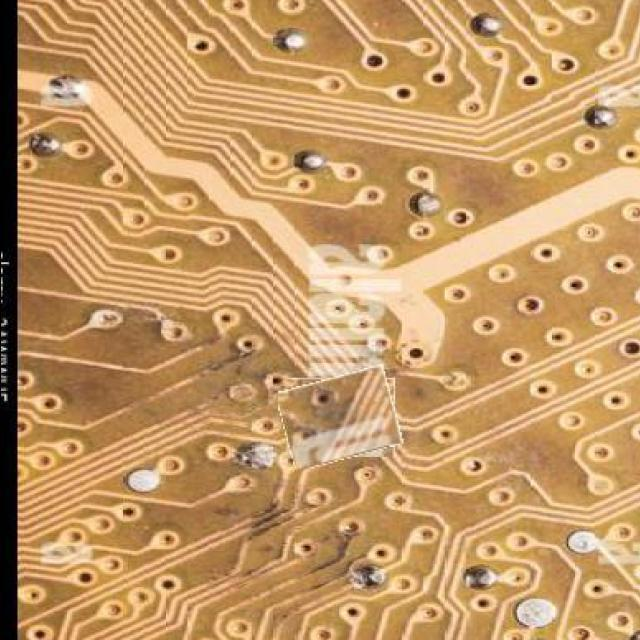Burn: (280, 372, 398, 464)
